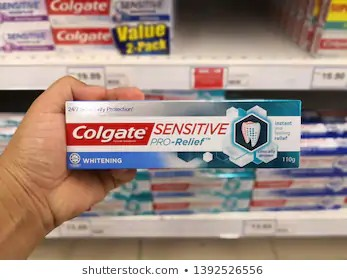gooday-medium: (64, 97, 299, 172)
